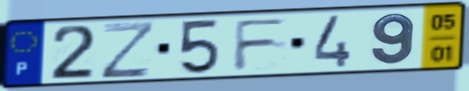2: (48, 24, 99, 82)
4: (313, 13, 353, 69)
5: (176, 17, 223, 76)
9: (368, 10, 417, 68)
F: (231, 16, 291, 73)
Z: (98, 19, 158, 81)
